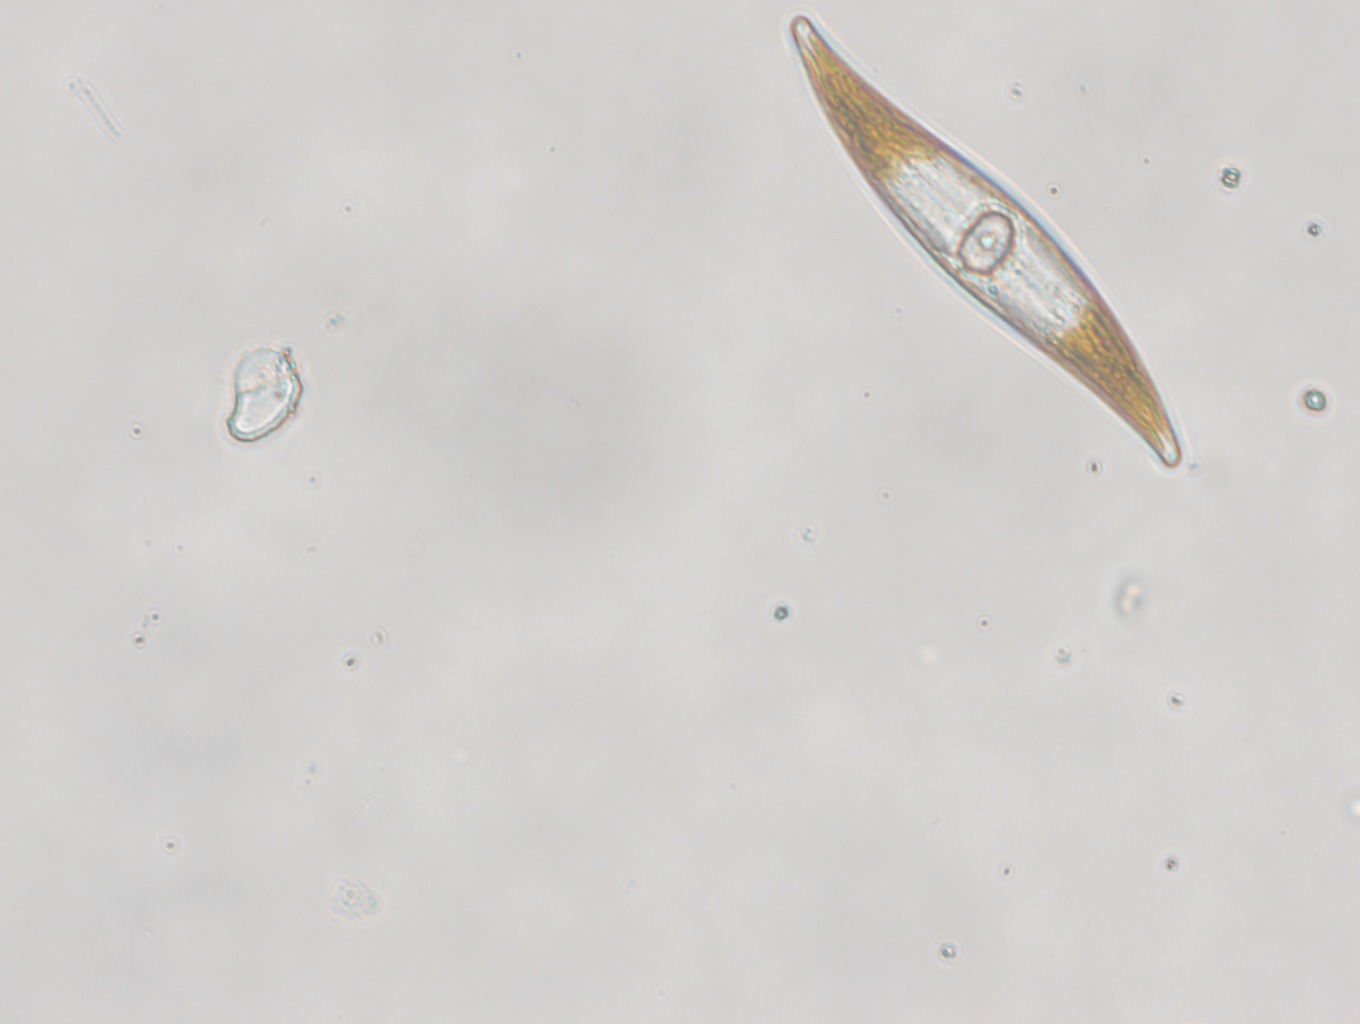pleurosigma pelagicum: (757, 18, 1187, 480)
